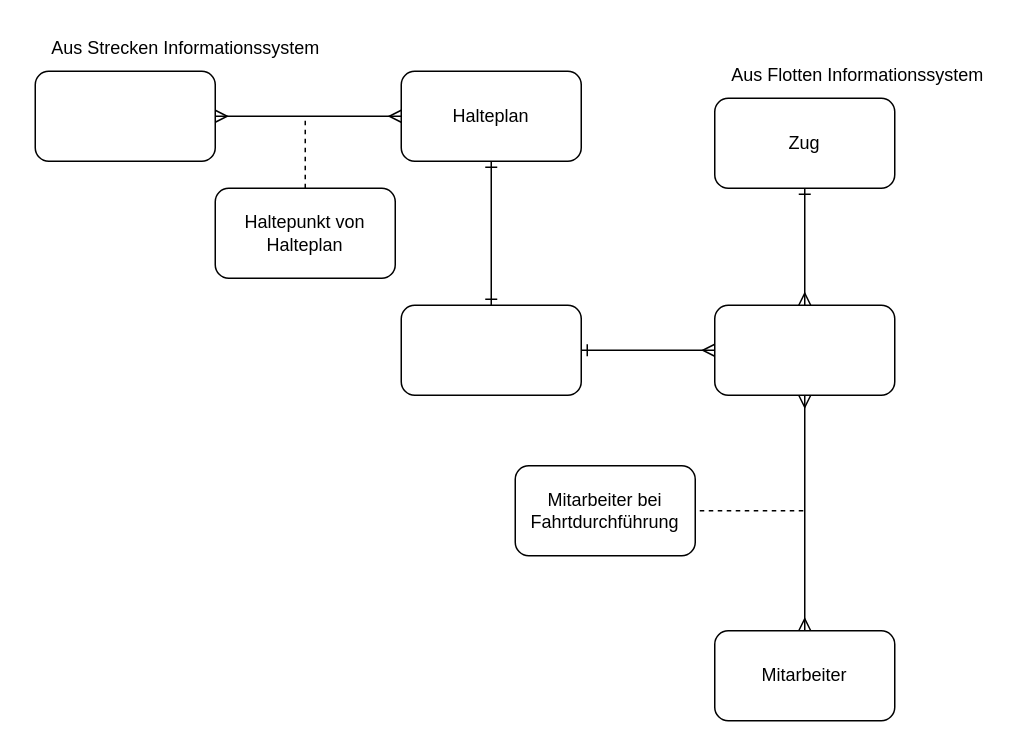
The diagram is 1025 pixels wide and 747 high, and some of its shapes have lost their labels. The centre of each missing label's shape, as x and y in pixels:
Fahrplan: (x=490, y=349)
Fahrtdurchführung: (x=804, y=349)
Haltepunkte: (x=124, y=115)
